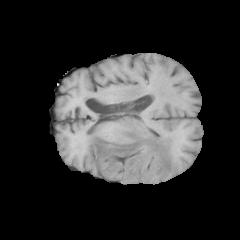glioma: (86, 126, 175, 175)
